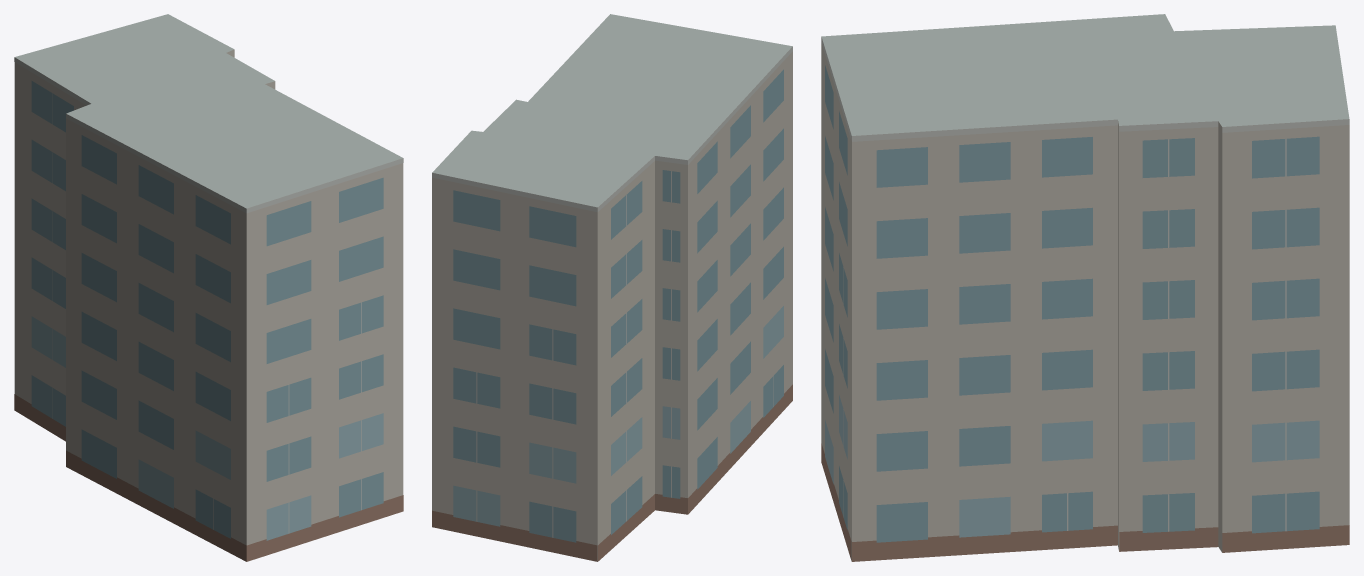
The model's file is survey-upis-32599258.glb.
The picture shows the model from 3 angles, left to right: view 1: azimuth 30°, elevation 25°; view 2: azimuth 150°, elevation 25°; view 3: azimuth 270°, elevation 25°; orthographic projection. The views are drawn at different scales.
Parts seen in each view (by area): view 1: survey-upis-32599258.tmp; view 2: survey-upis-32599258.tmp; view 3: survey-upis-32599258.tmp.
Boxes of the visible parts, x1,y1,x2,y2 form: survey-upis-32599258.tmp: [14, 14, 403, 561]; survey-upis-32599258.tmp: [432, 14, 792, 561]; survey-upis-32599258.tmp: [821, 14, 1349, 561].
Bounding box in the file's own units: 11.01 × 17.9 × 20.13.
